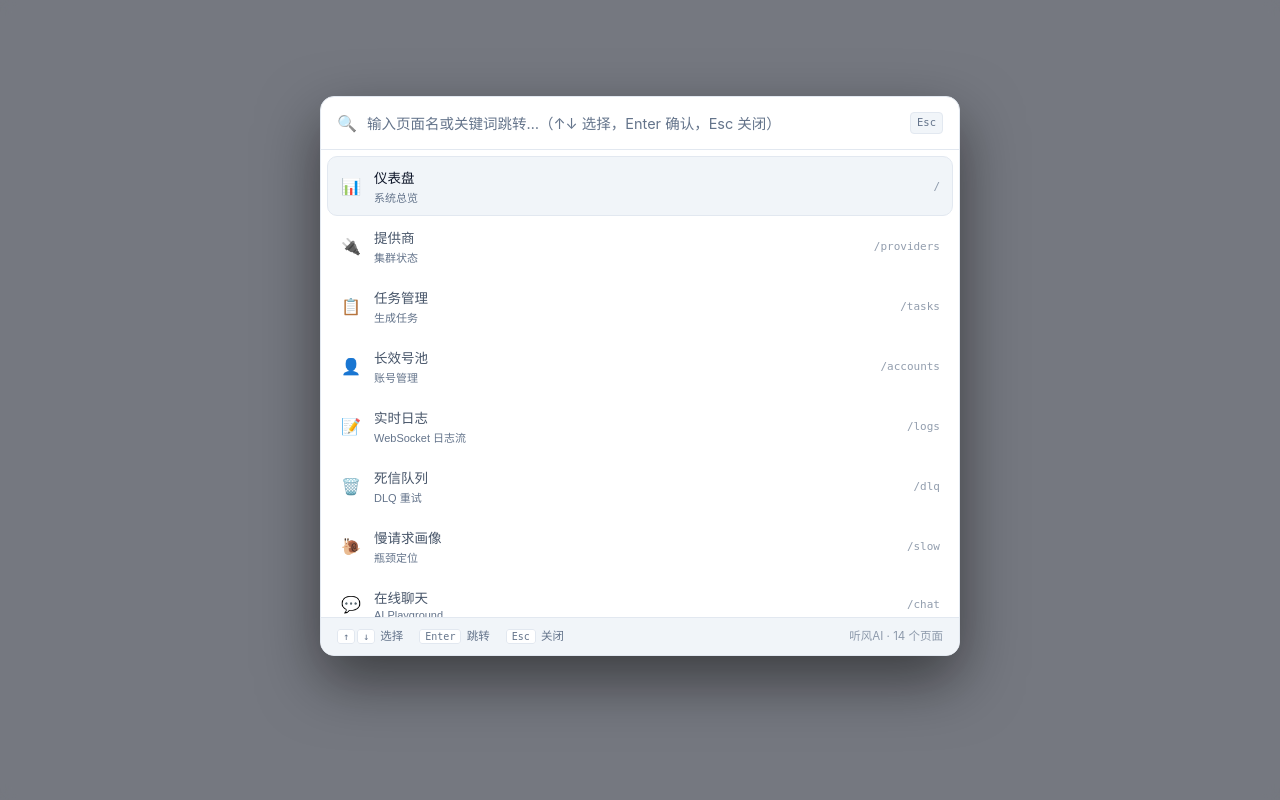
Test case: CommandPalette › 过滤：输入"日志"只显示相关项
Type "日志" into the field with placeholder "输入页面名或关键词跳转…（↑↓ 选择，Enter 确认，Esc 关闭）".
click(634, 123); type("日志")  # box [367,114,900,132]
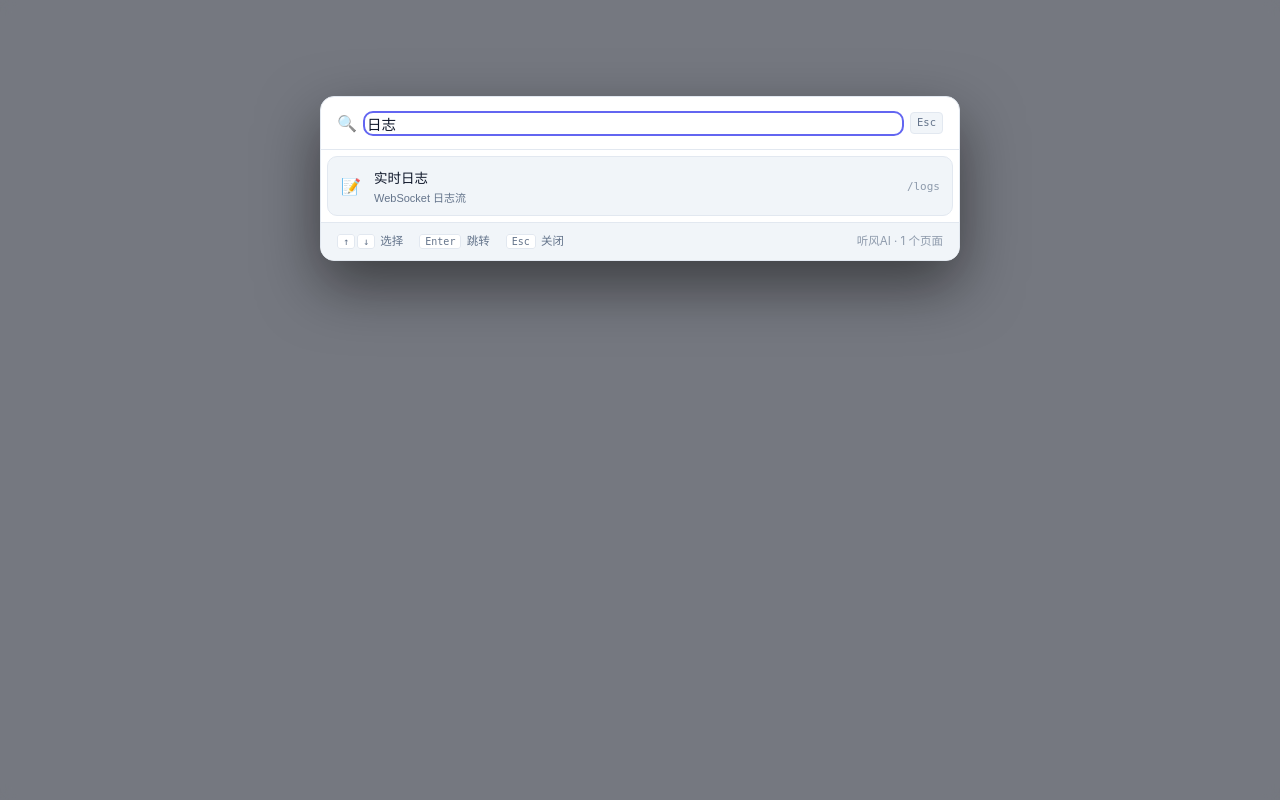
Expected: the text "实时日志" is shown, [374,171,428,186]
Expected: the option "仪表盘" is gone
